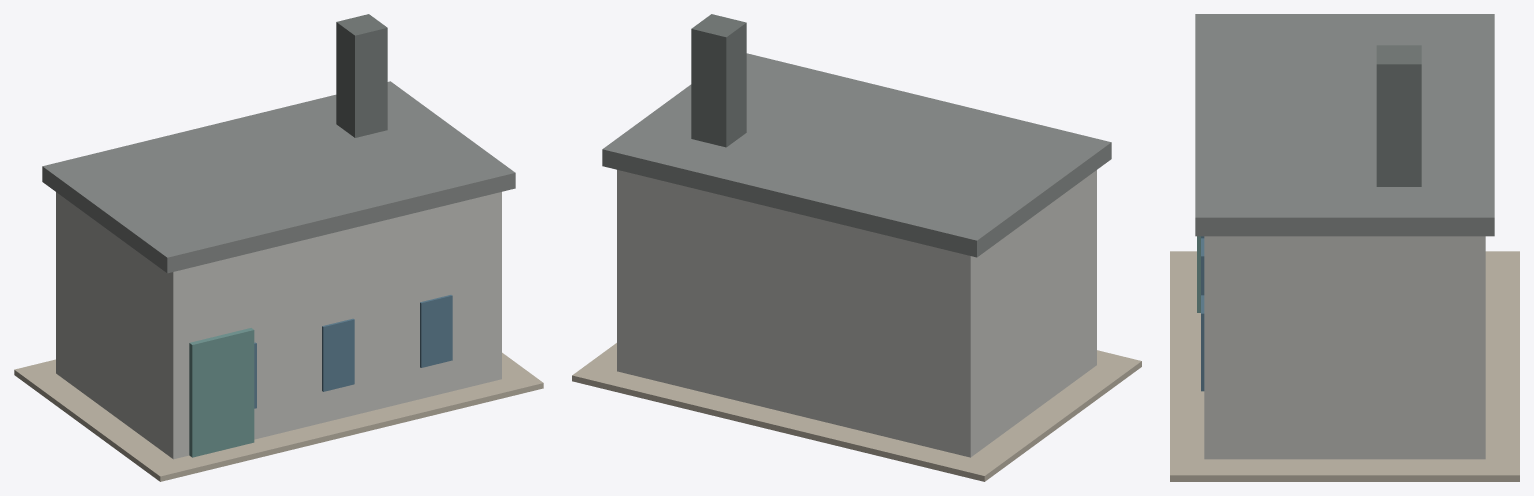
Rendered from mill_3x2.glb.
3 views of the same model, side by side, from view 1: azimuth 30°, elevation 25°; view 2: azimuth 150°, elevation 25°; view 3: azimuth 270°, elevation 25° (orthographic). The views are drawn at different scales.
Parts seen in each view (by area): view 1: mill_3x2; view 2: mill_3x2; view 3: mill_3x2.
Boxes of the visible parts, <box> form: mill_3x2: <box>14,14,543,481</box>; mill_3x2: <box>572,14,1141,481</box>; mill_3x2: <box>1170,14,1519,481</box>.
Size of the model in its own units: 5.88 by 4.61 by 3.88.
